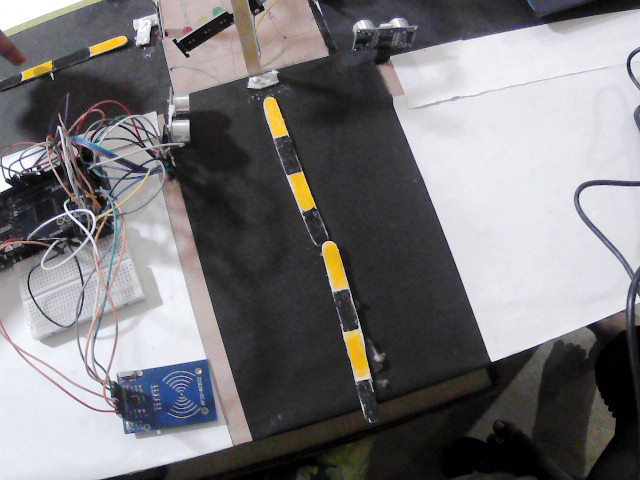black_strip: (262, 129, 303, 174), (296, 201, 338, 243), (324, 281, 362, 327), (354, 378, 378, 420), (52, 45, 88, 72), (0, 68, 15, 86)
mixed_lane: (263, 90, 378, 426), (0, 15, 164, 84)
uno_breadboard: (0, 162, 152, 320), (24, 358, 217, 430), (344, 17, 420, 51)
yellow_strip: (344, 327, 371, 377), (320, 239, 342, 294), (16, 57, 56, 83), (88, 33, 126, 57), (288, 173, 315, 206), (263, 99, 284, 135)
